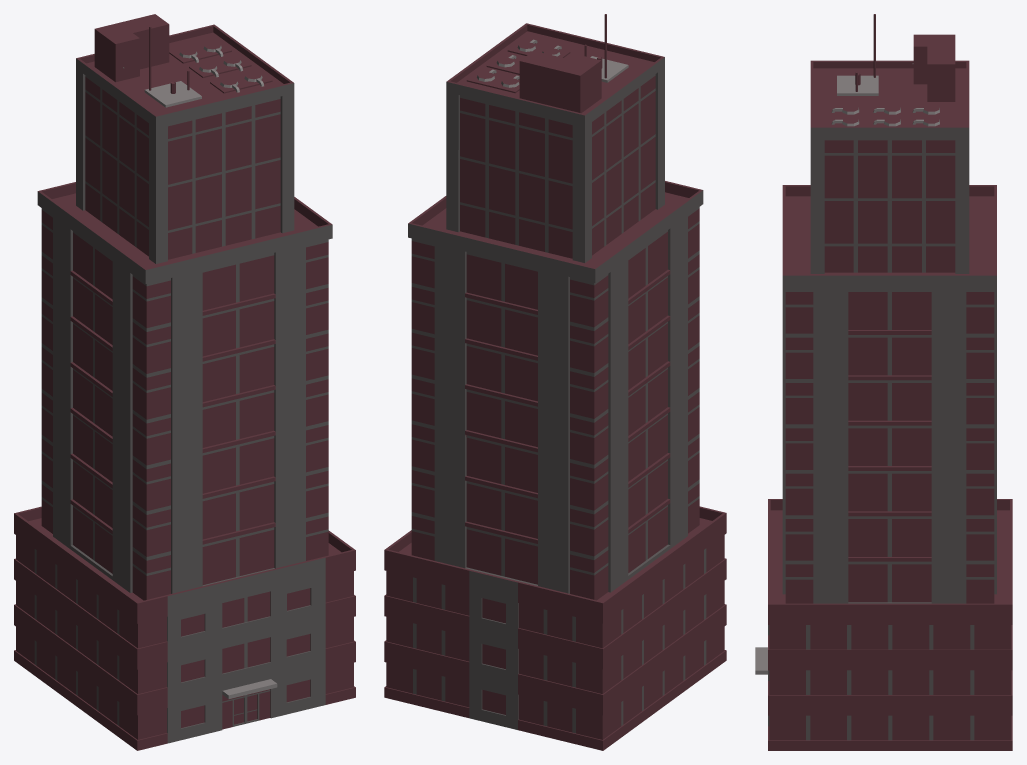
Rendered from building-office-pyramid.fbx.
3 views of the same model, side by side, from view 1: azimuth 30°, elevation 25°; view 2: azimuth 150°, elevation 25°; view 3: azimuth 270°, elevation 25° (orthographic).
Visible parts, largest first — view 1: building-office-pyramid; view 2: building-office-pyramid; view 3: building-office-pyramid.
Part boxes in pixels (x1=…): building-office-pyramid: x1=14, y1=14, x2=355, y2=750; building-office-pyramid: x1=384, y1=14, x2=726, y2=750; building-office-pyramid: x1=755, y1=14, x2=1012, y2=750.
Size of the model in its own units: 18 by 52.6 by 18.5.
